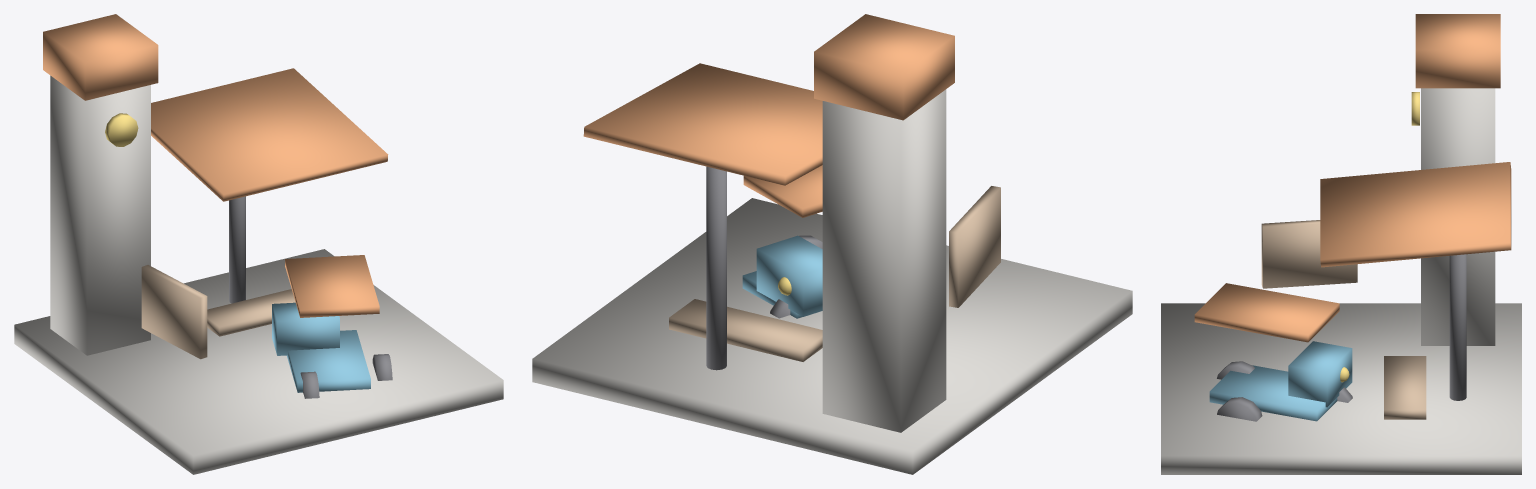
Rendered from tuk_tuk_station_lv3.glb.
The picture shows the model from 3 angles, left to right: view 1: azimuth 30°, elevation 25°; view 2: azimuth 150°, elevation 25°; view 3: azimuth 270°, elevation 25°; orthographic projection. The views are drawn at different scales.
Visible parts, largest first — view 1: deck, clock_body, term_canopy, clock_roof, tuktuk1_roof, map_board, tuktuk1_chassis, tuktuk1_hood, bench_seat, term_pil, clock_face; view 2: deck, clock_body, term_canopy, clock_roof, bench_seat, map_board, term_pil, tuktuk1_hood, tuktuk1_roof; view 3: deck, term_canopy, clock_body, clock_roof, tuktuk1_roof, map_board, tuktuk1_chassis, tuktuk1_hood, bench_seat, term_pil, tuktuk1_w_br.
Part boxes in pixels (left/top/right/bottom): deck: left=14, top=249, right=503, bottom=474; clock_body: left=50, top=75, right=150, bottom=355; term_canopy: left=151, top=68, right=388, bottom=201; clock_roof: left=43, top=14, right=158, bottom=100; tuktuk1_roof: left=285, top=255, right=379, bottom=317; map_board: left=141, top=265, right=207, bottom=359; tuktuk1_chassis: left=287, top=330, right=370, bottom=392; tuktuk1_hood: left=272, top=302, right=339, bottom=355; bench_seat: left=207, top=289, right=295, bottom=336; term_pil: left=229, top=196, right=245, bottom=303; clock_face: left=105, top=113, right=138, bottom=146; deck: left=532, top=198, right=1132, bottom=474; clock_body: left=822, top=89, right=946, bottom=432; term_canopy: left=583, top=63, right=822, bottom=185; clock_roof: left=814, top=14, right=954, bottom=120; bench_seat: left=669, top=299, right=822, bottom=361; map_board: left=949, top=186, right=1000, bottom=307; term_pil: left=706, top=166, right=726, bottom=370; tuktuk1_hood: left=756, top=235, right=822, bottom=316; tuktuk1_roof: left=743, top=165, right=822, bottom=217; deck: left=1161, top=303, right=1521, bottom=474; term_canopy: left=1320, top=162, right=1511, bottom=267; clock_body: left=1421, top=88, right=1495, bottom=345; clock_roof: left=1415, top=14, right=1500, bottom=88; tuktuk1_roof: left=1194, top=283, right=1339, bottom=342; map_board: left=1261, top=220, right=1357, bottom=288; tuktuk1_chassis: left=1209, top=365, right=1337, bottom=421; tuktuk1_hood: left=1288, top=341, right=1352, bottom=407; bench_seat: left=1384, top=356, right=1426, bottom=419; term_pil: left=1449, top=254, right=1466, bottom=400; tuktuk1_w_br: left=1217, top=397, right=1262, bottom=421.
Bounding box in the file's own units: 1.7 × 1.69 × 1.7.
